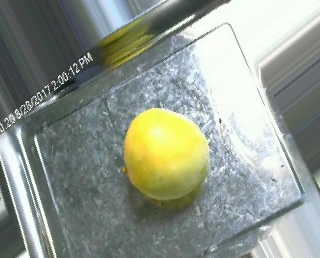Mango: (116, 105, 217, 203)
